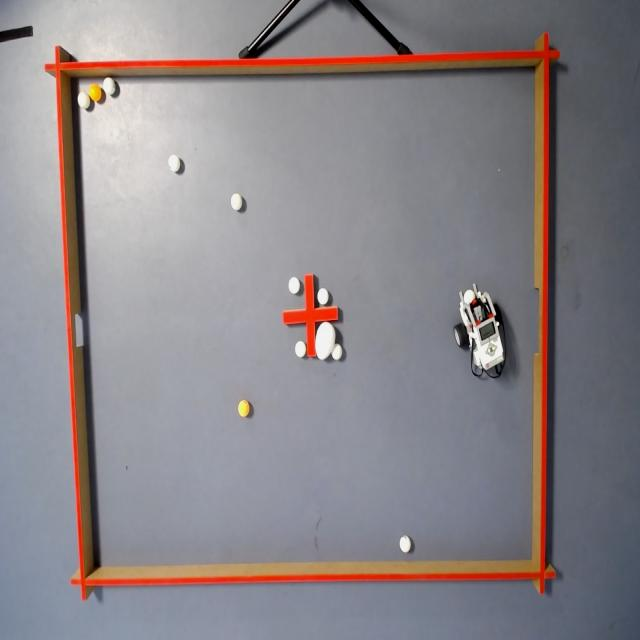boundaries: (45, 45, 96, 600), (44, 29, 562, 80), (70, 556, 558, 602), (526, 30, 562, 596)
cross: (282, 273, 339, 357)
egg: (315, 320, 335, 360)
large_goal: (526, 266, 558, 372)
orange_ball: (90, 83, 102, 101), (238, 400, 250, 417)
robot: (453, 282, 508, 381)
small_goal: (60, 301, 93, 361)
white_ball: (463, 285, 478, 309), (398, 532, 414, 554), (167, 153, 181, 172), (230, 192, 243, 211), (103, 76, 116, 95), (77, 91, 90, 110), (294, 339, 306, 359), (288, 276, 301, 294), (317, 288, 330, 305), (331, 343, 343, 360)
